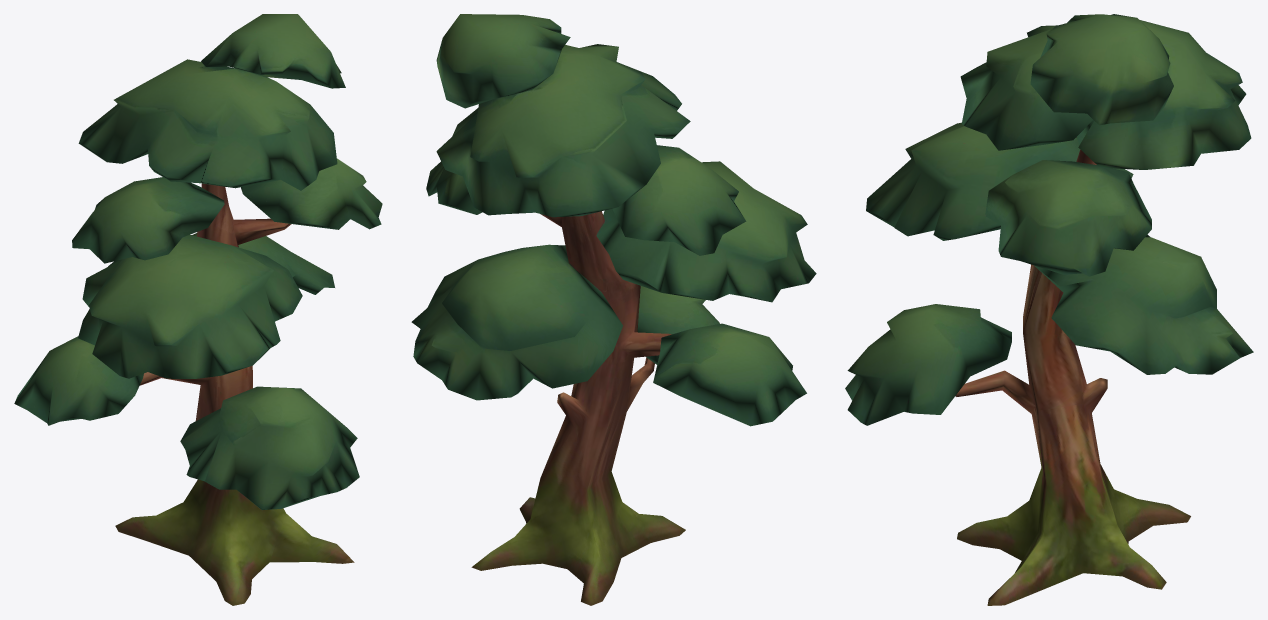
Rendered from stylized_green_tree.glb.
3 renders of one model, left to right at view 1: azimuth 30°, elevation 25°; view 2: azimuth 150°, elevation 25°; view 3: azimuth 270°, elevation 25°, orthographic. The views are drawn at different scales.
Visible parts, largest first — view 1: tripo_node_c78a1e9f-cffe-4be0-9ee7-885ec8896ee0; view 2: tripo_node_c78a1e9f-cffe-4be0-9ee7-885ec8896ee0; view 3: tripo_node_c78a1e9f-cffe-4be0-9ee7-885ec8896ee0.
Boxes of the visible parts, <box> form: tripo_node_c78a1e9f-cffe-4be0-9ee7-885ec8896ee0: <box>14,14,382,605</box>; tripo_node_c78a1e9f-cffe-4be0-9ee7-885ec8896ee0: <box>411,14,816,605</box>; tripo_node_c78a1e9f-cffe-4be0-9ee7-885ec8896ee0: <box>845,14,1253,605</box>.
Bounding box in the file's own units: 0.7051 × 0.998 × 0.6504.
Materials: 1 (1 with a texture image).
